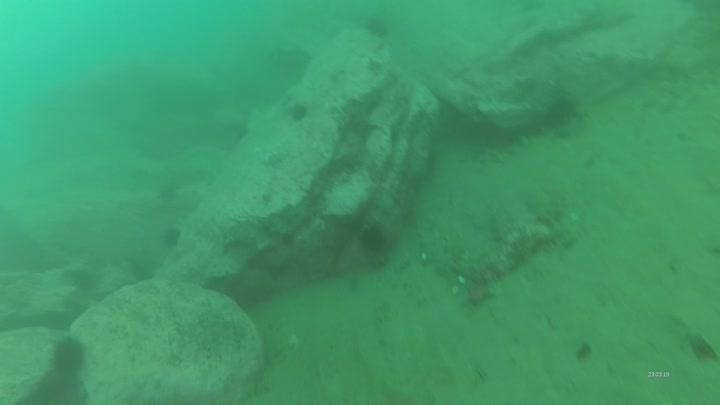echinus: (48, 335, 89, 378), (542, 92, 583, 129), (356, 222, 391, 256), (361, 14, 392, 41), (158, 224, 184, 250), (285, 100, 311, 124)
starfish: (459, 275, 499, 312)
